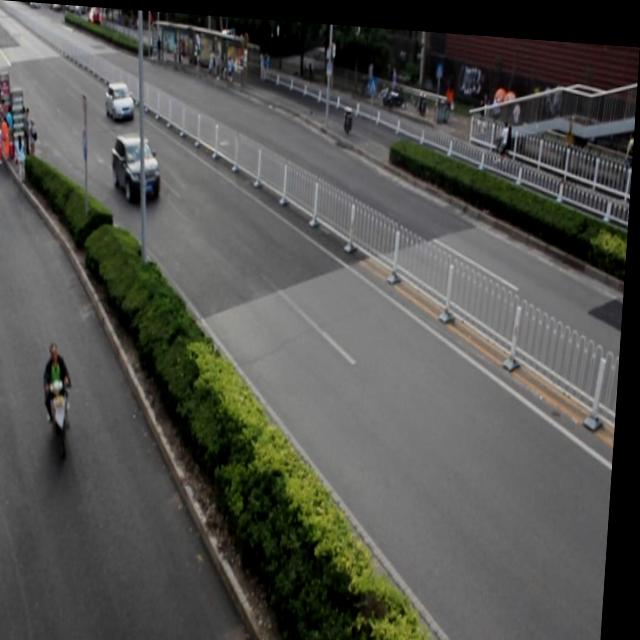car: (112, 131, 166, 199), (106, 80, 136, 119)
